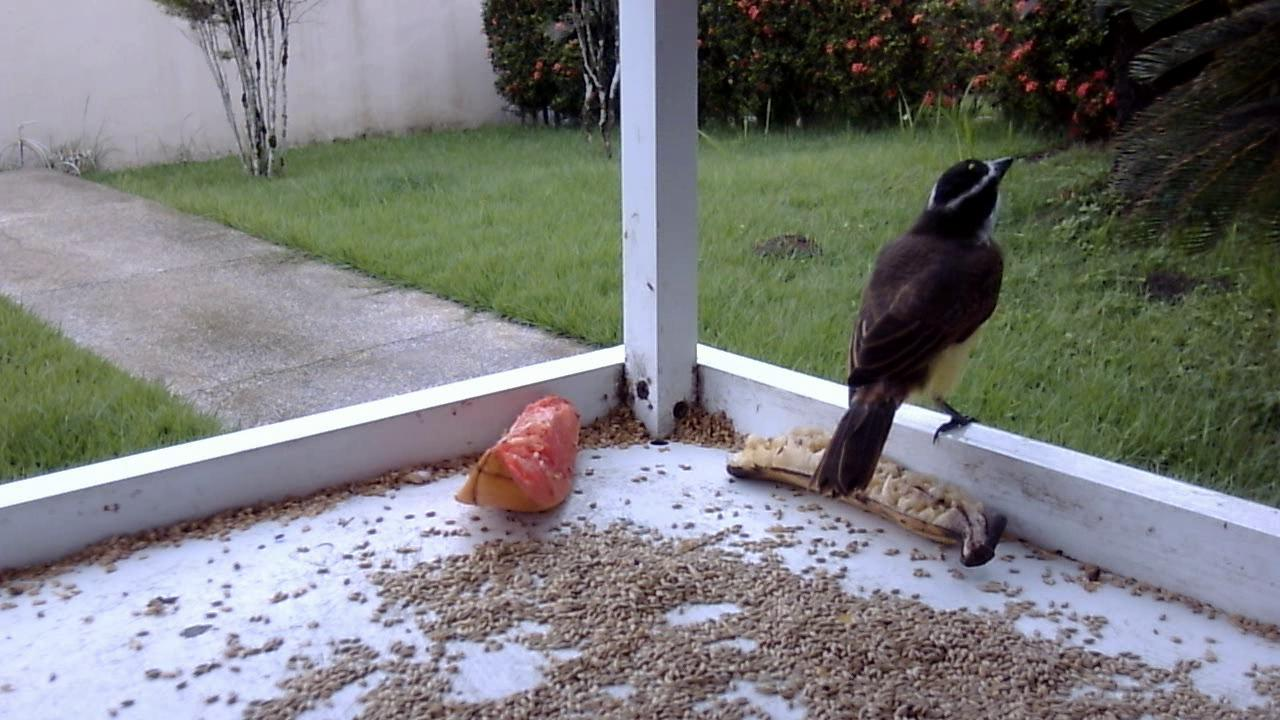bem_te_vi: (801, 142, 1044, 510)
